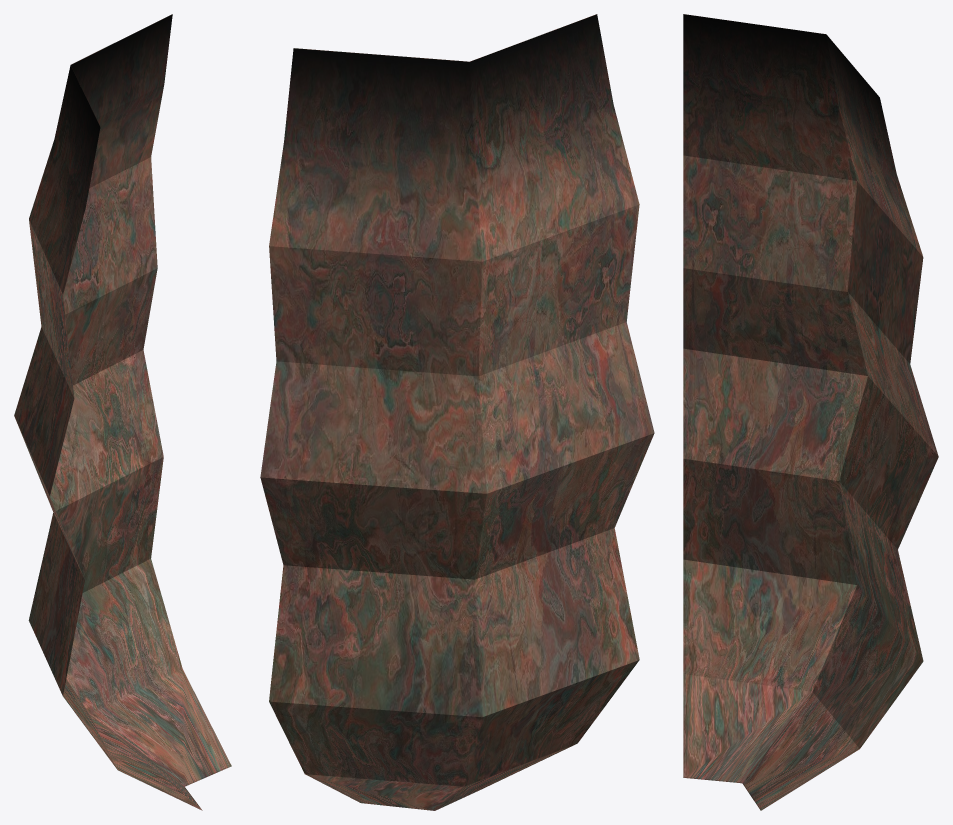
File: cave_walls_plane_002.glb
3 renders of one model, left to right at view 1: azimuth 30°, elevation 25°; view 2: azimuth 150°, elevation 25°; view 3: azimuth 270°, elevation 25°, orthographic. The views are drawn at different scales.
Parts seen in each view (by area): view 1: Plane.002-col; view 2: Plane.002-col; view 3: Plane.002-col.
Boxes of the visible parts, x1,y1,x2,y2 form: Plane.002-col: [14, 14, 231, 810]; Plane.002-col: [260, 14, 654, 810]; Plane.002-col: [683, 14, 938, 810].
Bounding box in the file's own units: 1.31 × 4.04 × 1.31.
Materials: 1 (1 with a texture image).
